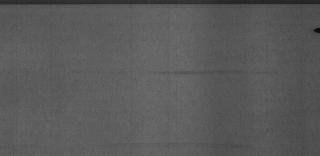punching hole: (310, 24, 320, 34)
welding line: (1, 1, 319, 9)
